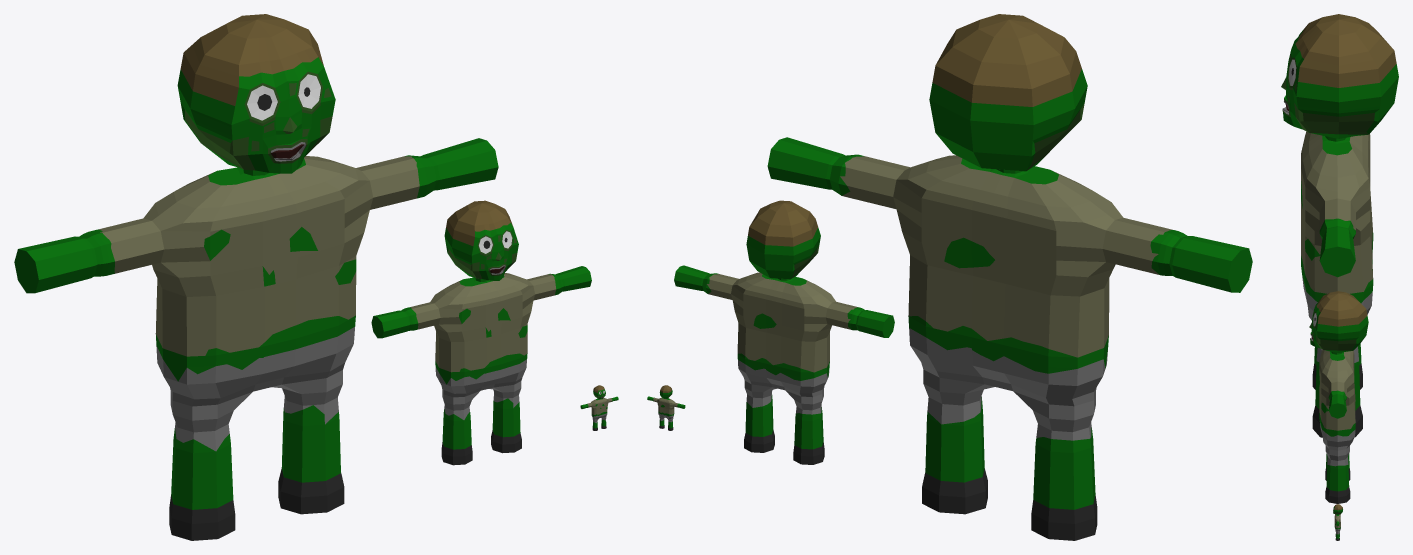
Rendered from V1ZombieFinal.fbx.
3 views of the same model, side by side, from view 1: azimuth 30°, elevation 25°; view 2: azimuth 150°, elevation 25°; view 3: azimuth 270°, elevation 25° (orthographic). The views are drawn at different scales.
Parts seen in each view (by area): view 1: v2Zombie(BIG), v1 Zombie(REG); view 2: v2Zombie(BIG), v1 Zombie(REG); view 3: v2Zombie(BIG), v1 Zombie(REG), V3 zOMBIE(SMALL).
Part boxes in pixels (x1,y1,x2,y2): v2Zombie(BIG): (14, 14, 498, 540); v1 Zombie(REG): (371, 200, 591, 465); v2Zombie(BIG): (767, 14, 1252, 540); v1 Zombie(REG): (674, 200, 894, 464); v2Zombie(BIG): (1281, 14, 1398, 437); v1 Zombie(REG): (1309, 291, 1368, 503); V3 zOMBIE(SMALL): (1333, 504, 1342, 540).
Size of the model in its own units: 2147 by 1714 by 472.
